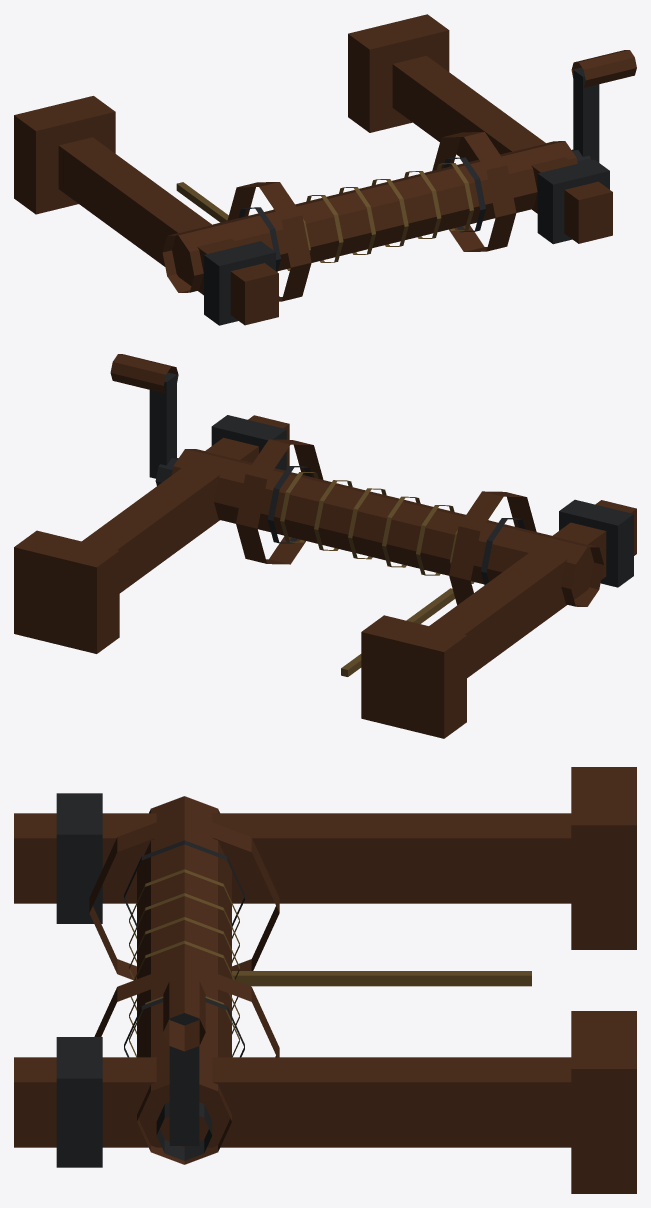
File: winch_LOD1.obj
3 views of the same model, one above another, from view 1: azimuth 30°, elevation 25°; view 2: azimuth 150°, elevation 25°; view 3: azimuth 270°, elevation 25° (orthographic). The views are drawn at different scales.
Bounding box in the file's own units: 2.45 × 0.815 × 1.9.
